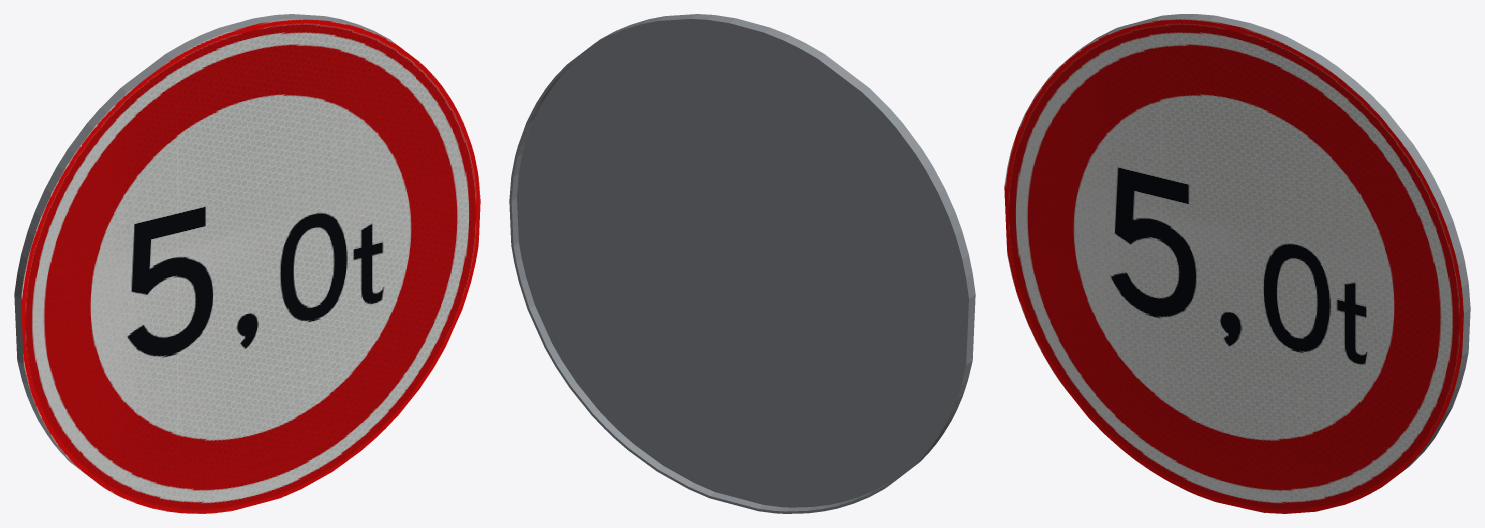
3 renders of one model, left to right at view 1: azimuth 30°, elevation 25°; view 2: azimuth 150°, elevation 25°; view 3: azimuth 330°, elevation 25°, orthographic.
Parts seen in each view (by area): view 1: cat_976c0a9776a8495d; view 2: cat_976c0a9776a8495d; view 3: cat_976c0a9776a8495d.
Boxes of the visible parts, bbox=[...] form: cat_976c0a9776a8495d: bbox=[14, 14, 480, 513]; cat_976c0a9776a8495d: bbox=[509, 14, 975, 513]; cat_976c0a9776a8495d: bbox=[1004, 14, 1470, 513].
Bounding box in the file's own units: 0.6 × 0.015 × 0.6.
2 materials, 1 textured.
